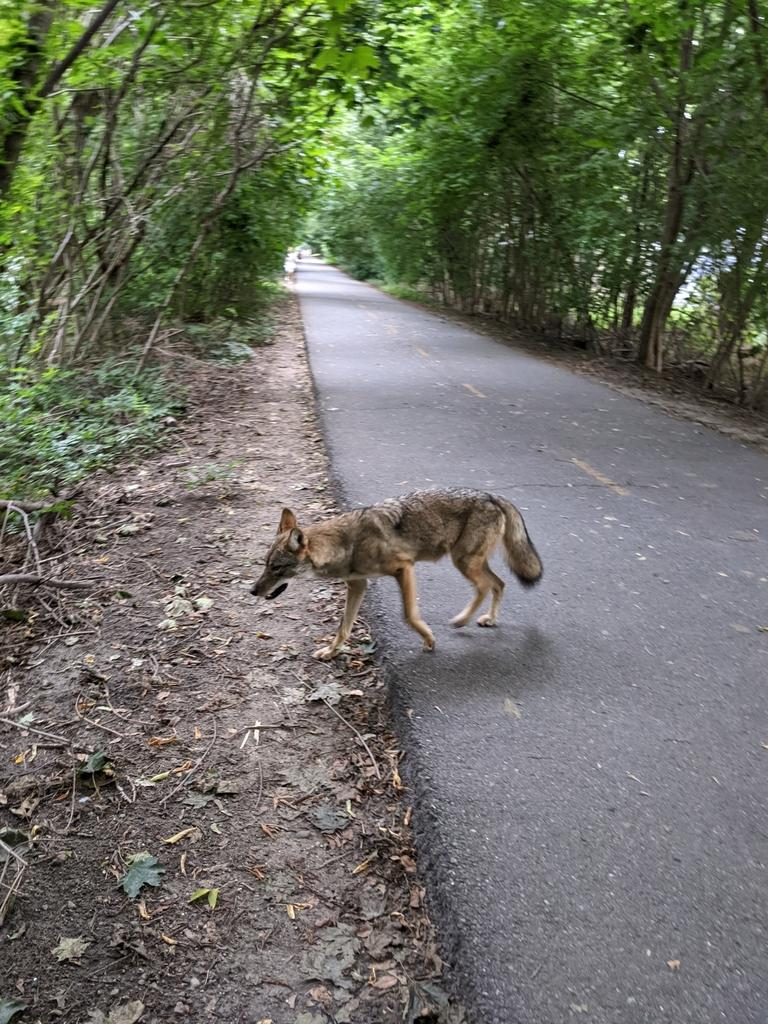Coyote: (249, 479, 550, 671)
